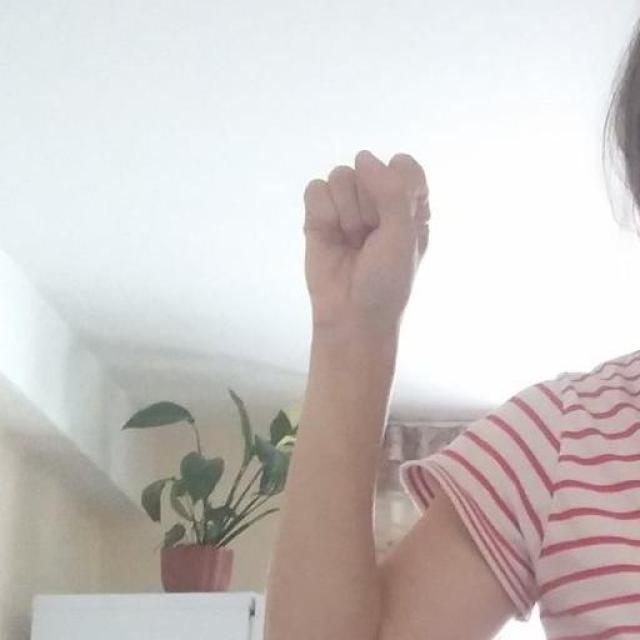hand: (301, 148, 430, 334)
